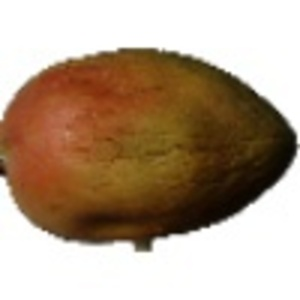mamão: (3, 42, 295, 239)
